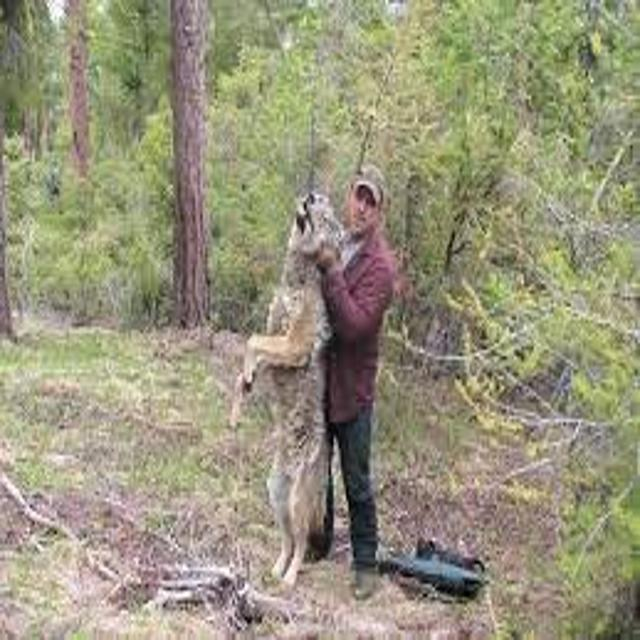poacher: (255, 144, 443, 627)
wolf: (203, 165, 359, 621)
